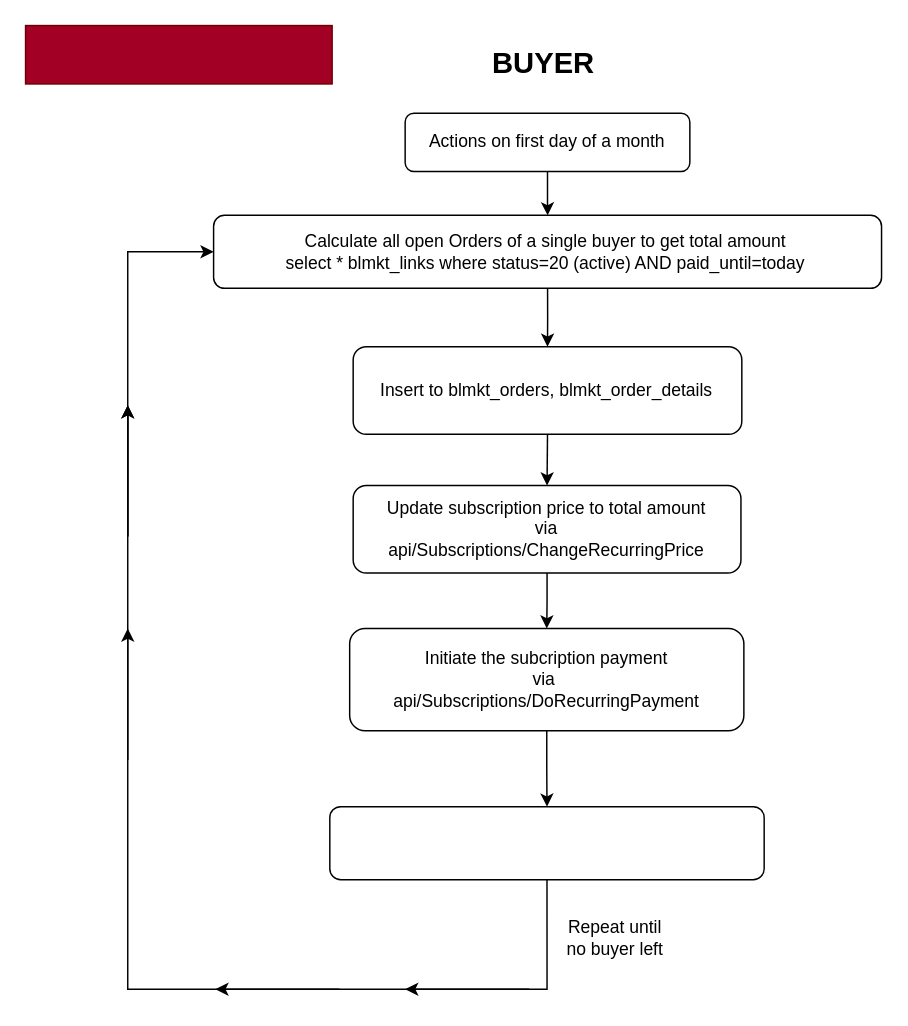
This 908x1026 diagram has some shape labels left out. Each missing label, with the centre of its shape:
"All other things should be handled by IPN Handler" belongs at point (546, 842).
"CRON SCRIPT ! exucution: 1. day of a month" belongs at point (178, 54).
